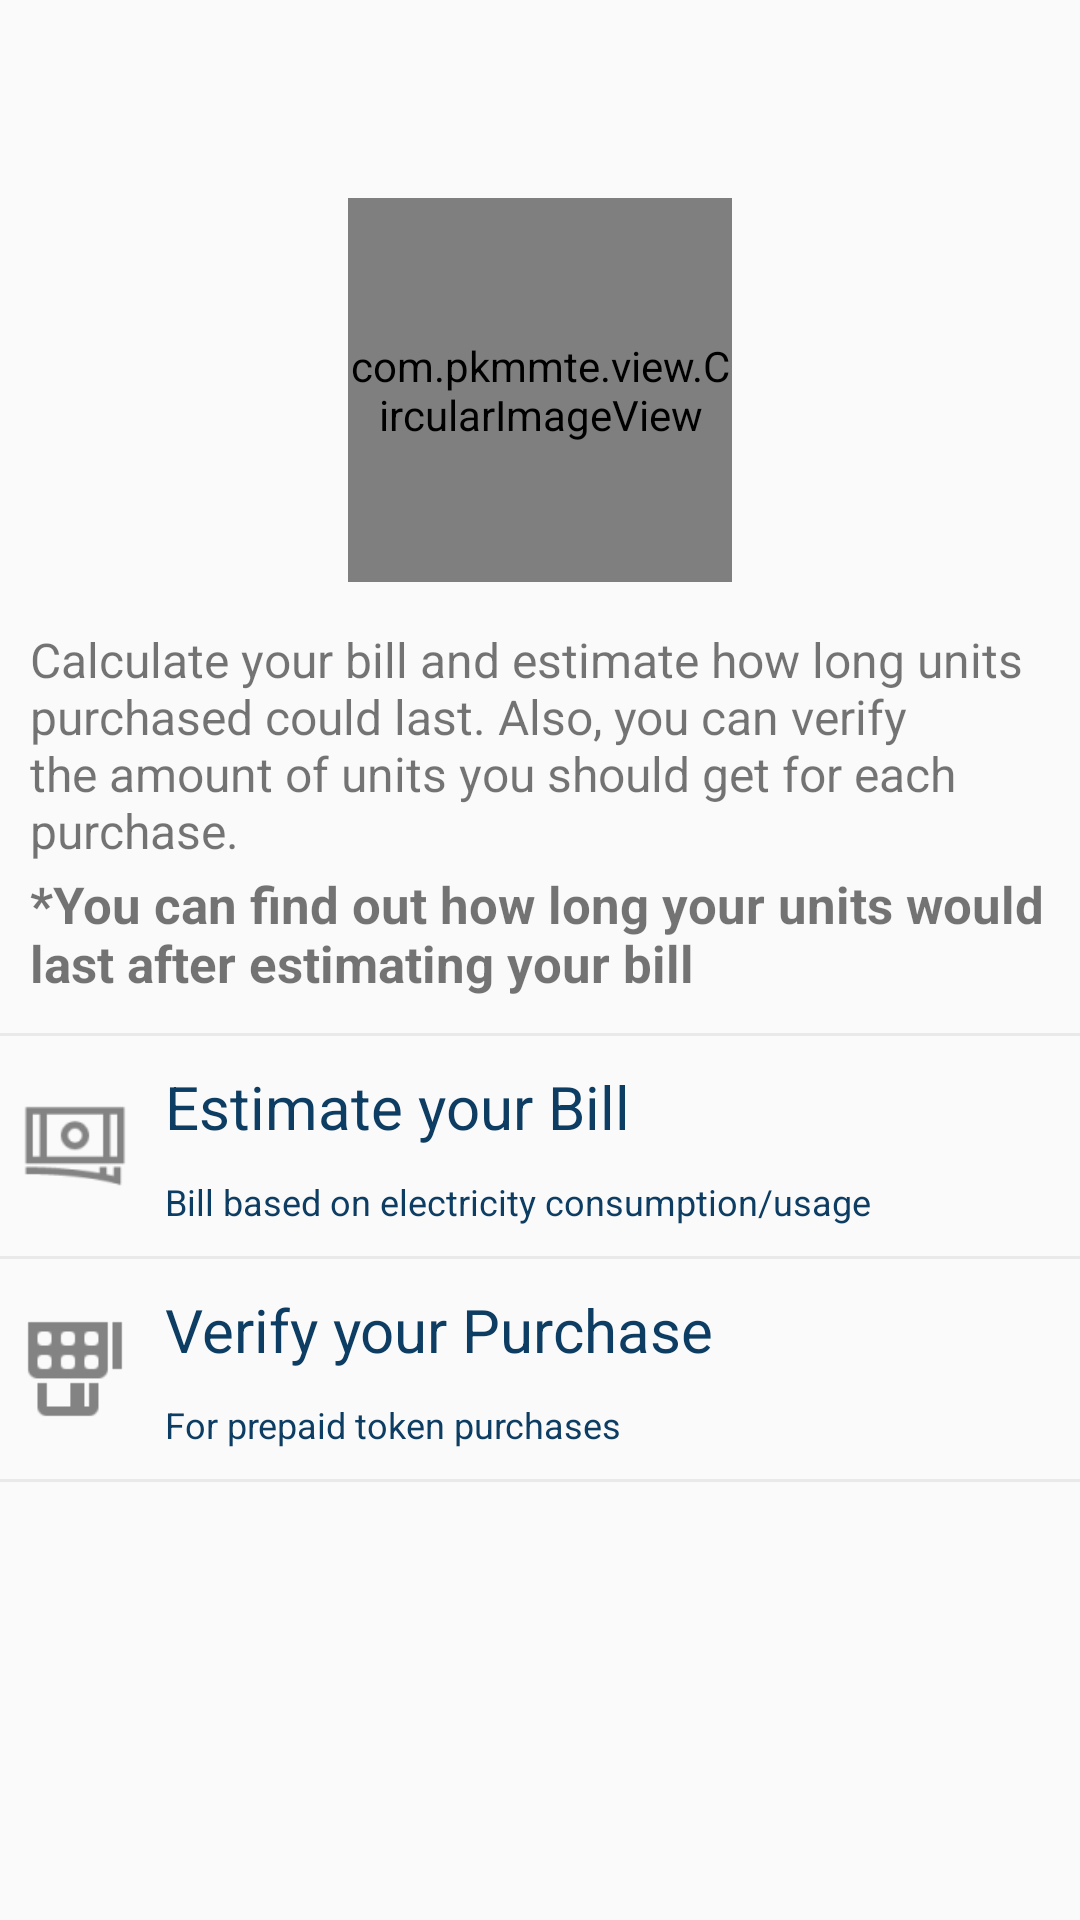

Icon bounding boxes for this 1080 × 1920 phone screenshot, format box(x1, y1, x2, y2):
money: box(25, 1107, 125, 1185)
